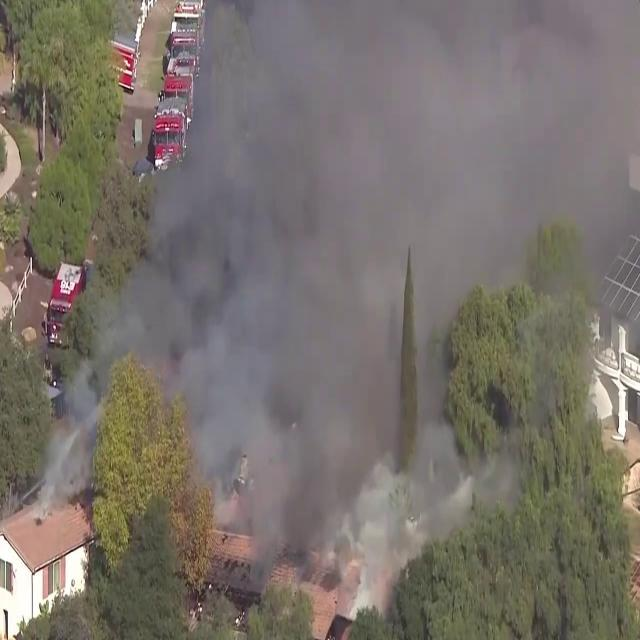Fire: (263, 552, 347, 636)
Smoke: (98, 1, 631, 598)
